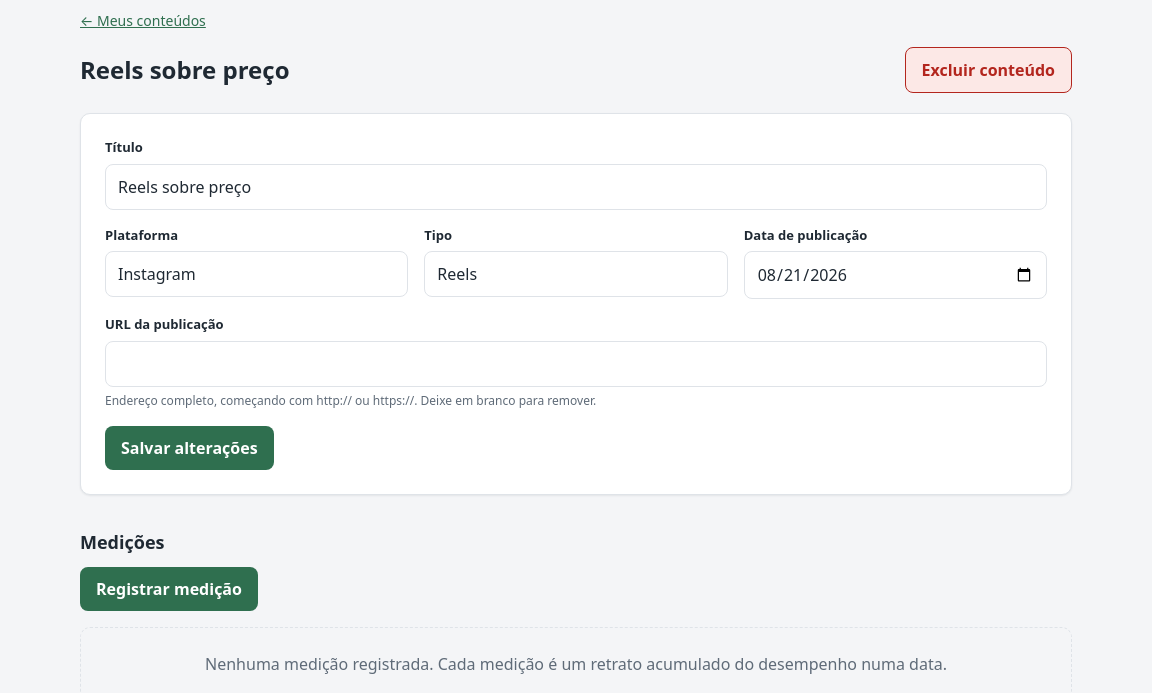
Test: ConteudoDetalhe — resposta obsoleta › número ambíguo é recusado antes de chegar à api
Click the button "Registrar medição" at (169, 589), box [80,567,258,611]
(page scrolled)
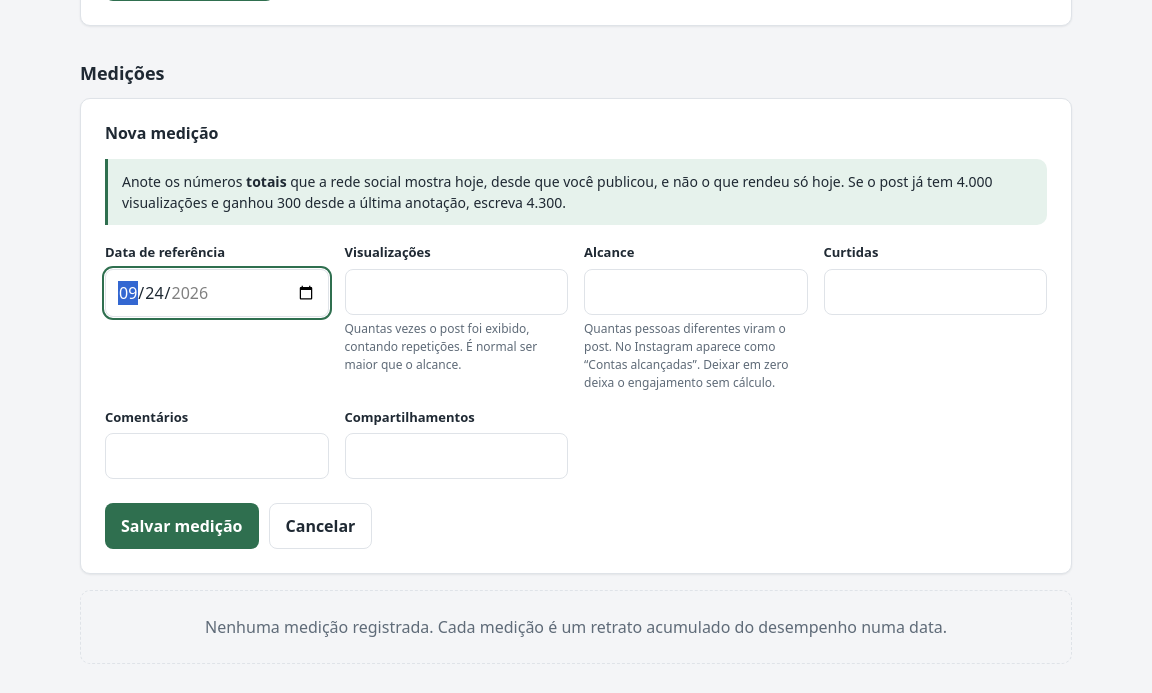
Type "1.5" into the number field labelled "Alcance" at (696, 292), box [584,268,808,314]
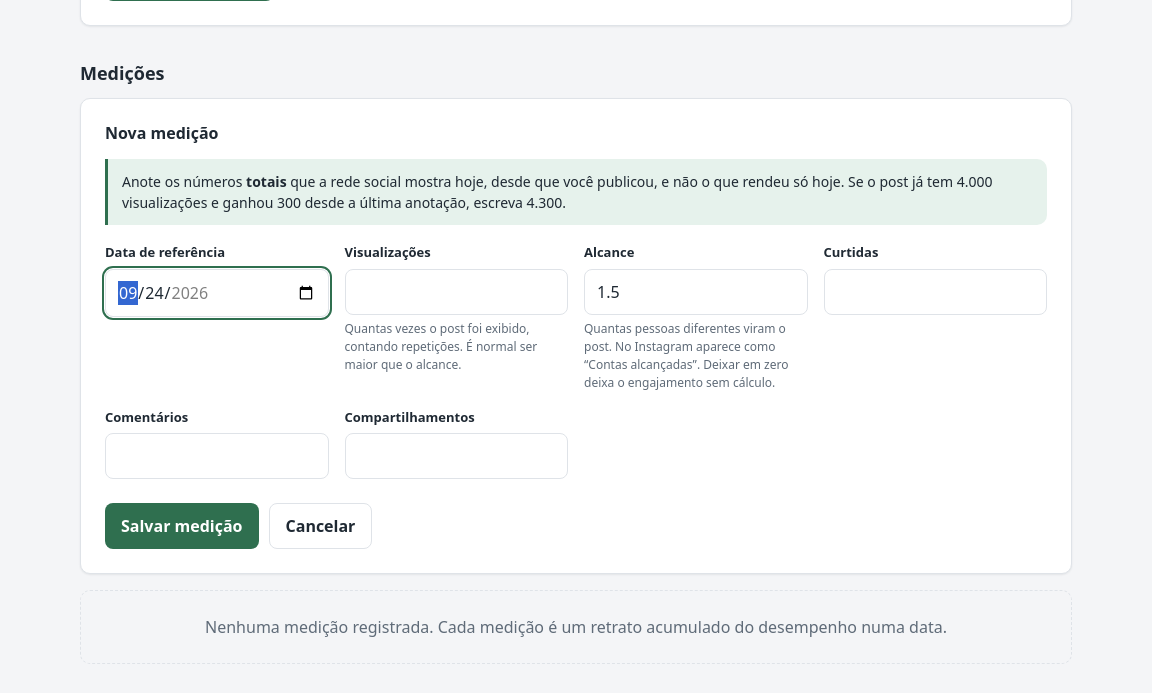
Submit the form named "Salvar medição", box [80,98,1072,574]
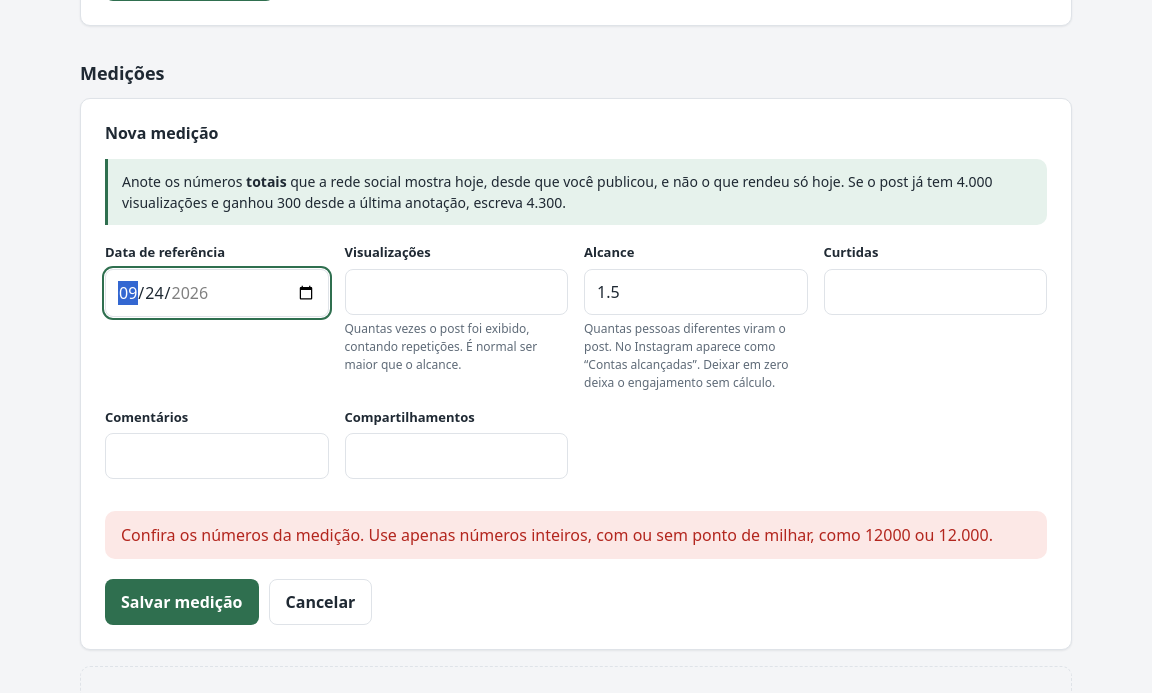
expect the text "Confira os números da medição" is shown: met, box [121,524,993,546]
